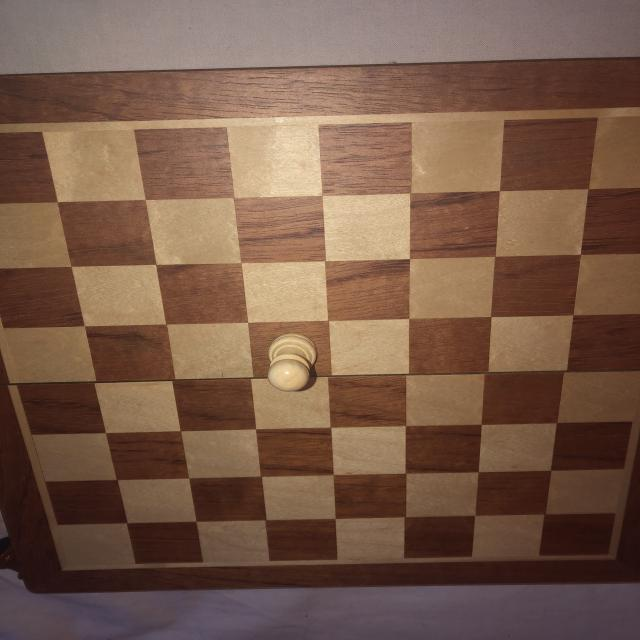white_pawn: (266, 334, 318, 392)
